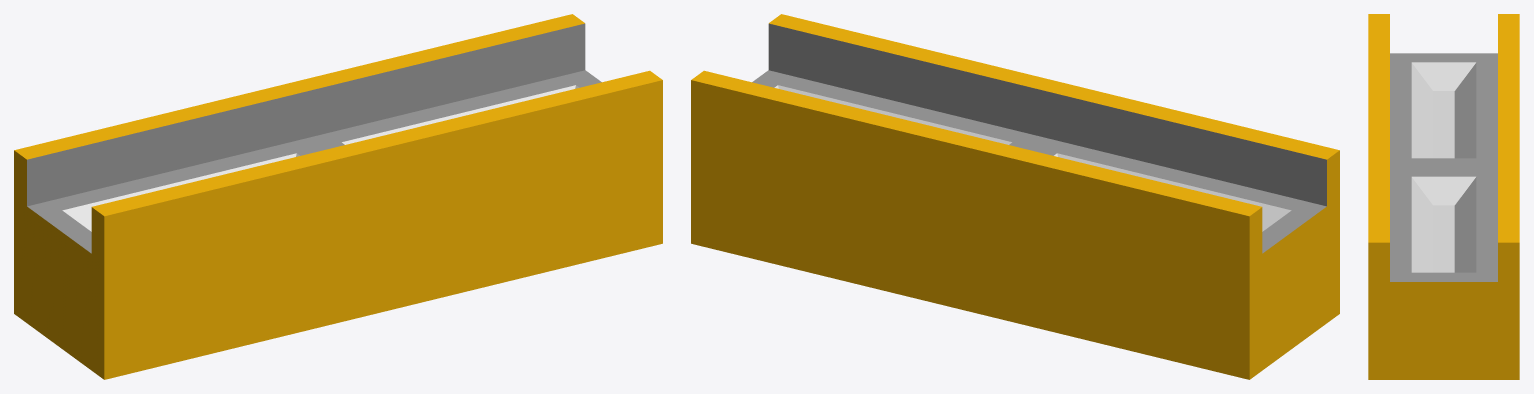
Rendered from bar_light.dae.
The picture shows the model from 3 angles, left to right: view 1: azimuth 30°, elevation 25°; view 2: azimuth 150°, elevation 25°; view 3: azimuth 270°, elevation 25°; orthographic projection. The views are drawn at different scales.
Visible parts, largest first — view 1: Cube; view 2: Cube; view 3: Cube.
Part boxes in pixels (left/top/right/bottom): Cube: left=14, top=14, right=662, bottom=379; Cube: left=691, top=14, right=1339, bottom=379; Cube: left=1368, top=14, right=1519, bottom=379.
Bounding box in the file's own units: 0.25 × 0.07 × 0.07.
